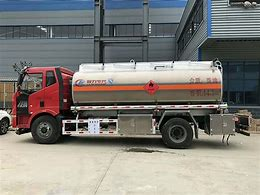oil truck: (8, 50, 237, 149)
